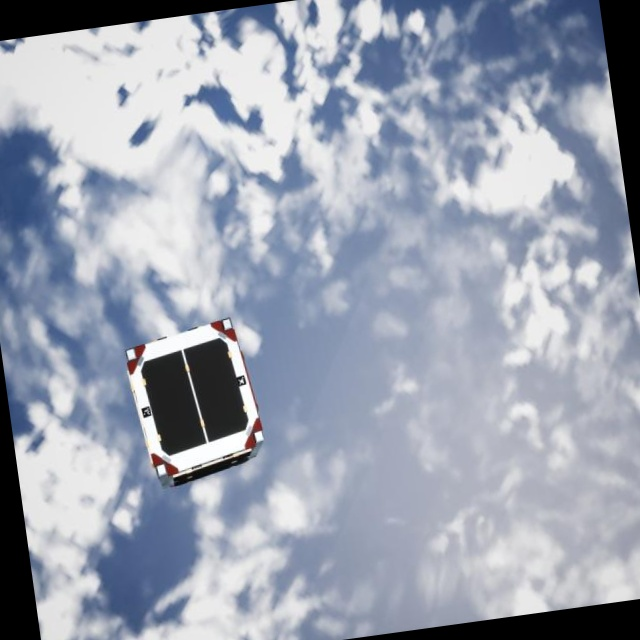satellite: (120, 312, 272, 499)
